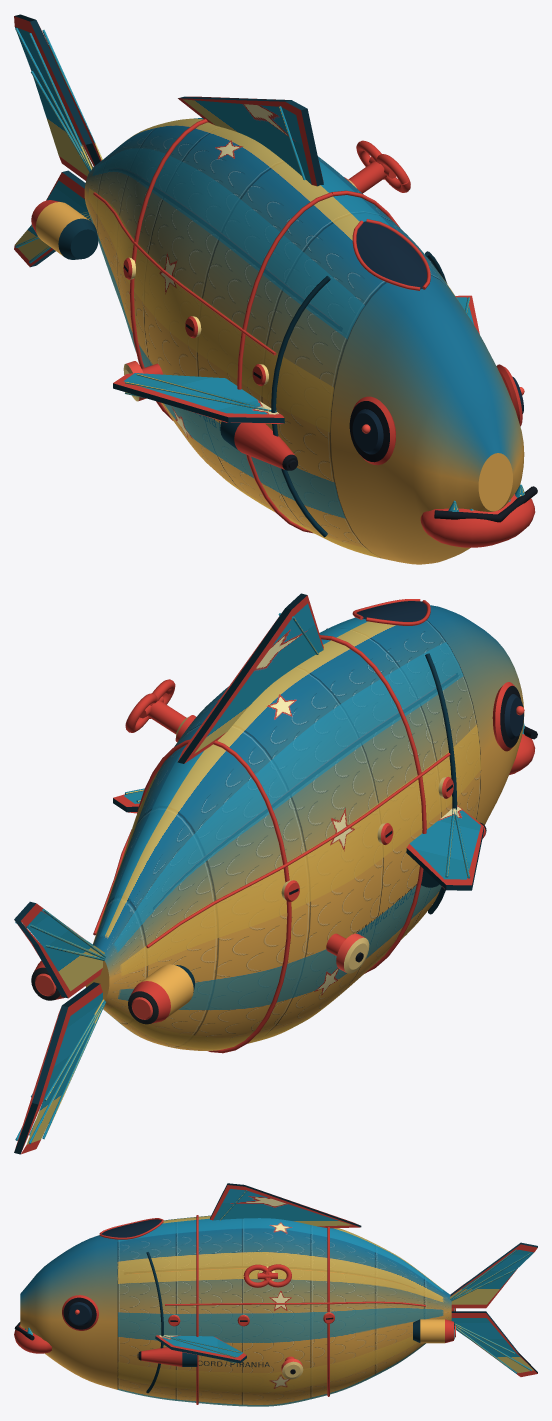
3 renders of one model, top to bottom at view 1: azimuth 30°, elevation 25°; view 2: azimuth 150°, elevation 25°; view 3: azimuth 270°, elevation 25°, orthographic. The views are drawn at different scales.
Visible parts, largest first — view 1: piranha_hull; view 2: piranha_hull; view 3: piranha_hull.
Part boxes in pixels (<box>): piranha_hull: <box>14,14,537,564</box>; piranha_hull: <box>14,593,537,1154</box>; piranha_hull: <box>14,1183,537,1406</box>.
Size of the model in its own units: 6.42 by 6.94 by 15.
1 material, 1 textured.
